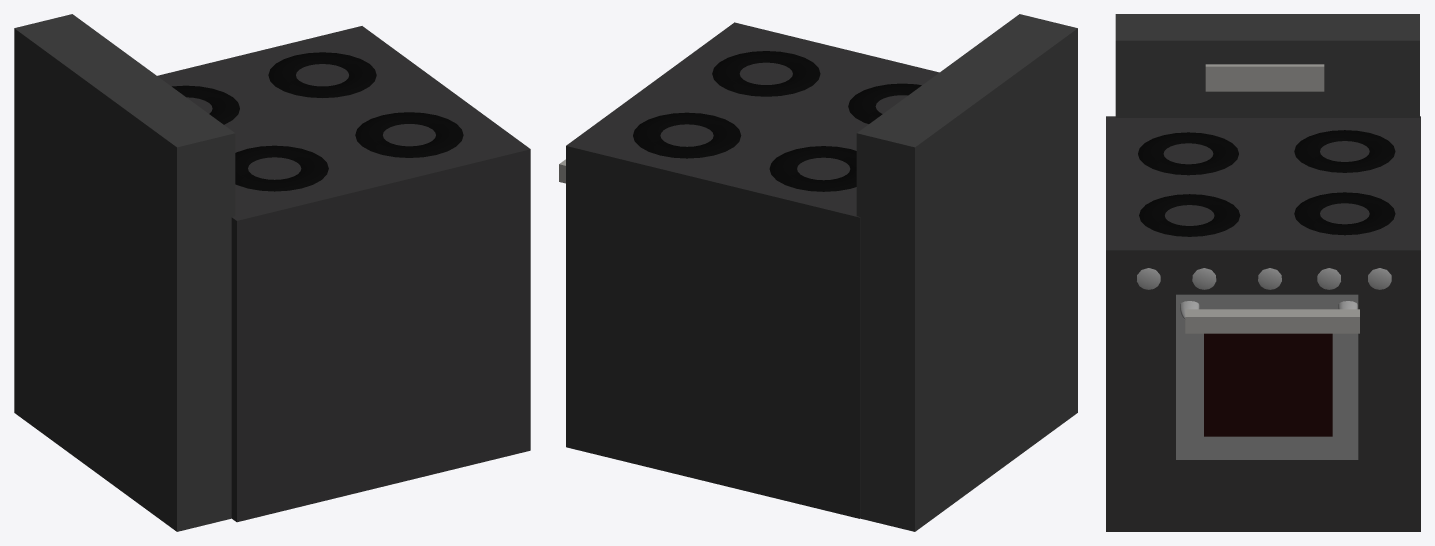
File: estufa.fbx
3 views of the same model, side by side, from view 1: azimuth 30°, elevation 25°; view 2: azimuth 150°, elevation 25°; view 3: azimuth 270°, elevation 25° (orthographic). The views are drawn at different scales.
Visible parts, largest first — view 1: Box6, Box, Torus3, Torus1, Torus, Torus2; view 2: Box6, Box, Torus1, Torus3, Torus2, Torus; view 3: Box6, Box, Plane1, Plane, Box4, Box3, Torus2, Torus3, Torus, Torus1, Capsule2.001, Capsule2.002 (+3 smaller).
Boxes of the visible parts, x1,y1,x2,y2 form: Box6: (157,26,530,522); Box: (14,14,235,531); Torus3: (355,112,463,157); Torus1: (268,52,376,97); Torus: (235,145,328,191); Torus2: (172,85,239,124); Box6: (566,22,939,518); Box: (856,14,1077,531); Torus1: (633,112,741,158); Torus3: (712,51,820,96); Torus2: (769,146,856,191); Torus: (848,83,921,123); Box6: (1106,116,1420,531); Box: (1115,14,1419,117); Plane1: (1204,333,1332,436); Plane: (1176,294,1358,459); Box4: (1185,309,1359,333); Box3: (1205,64,1324,91); Torus2: (1294,130,1395,172); Torus3: (1139,194,1240,236); Torus: (1138,132,1238,175); Torus1: (1294,192,1395,235); Capsule2.001: (1192,268,1216,289); Capsule2.002: (1258,268,1281,289).
Size of the model in its own units: 459 by 435 by 346.
